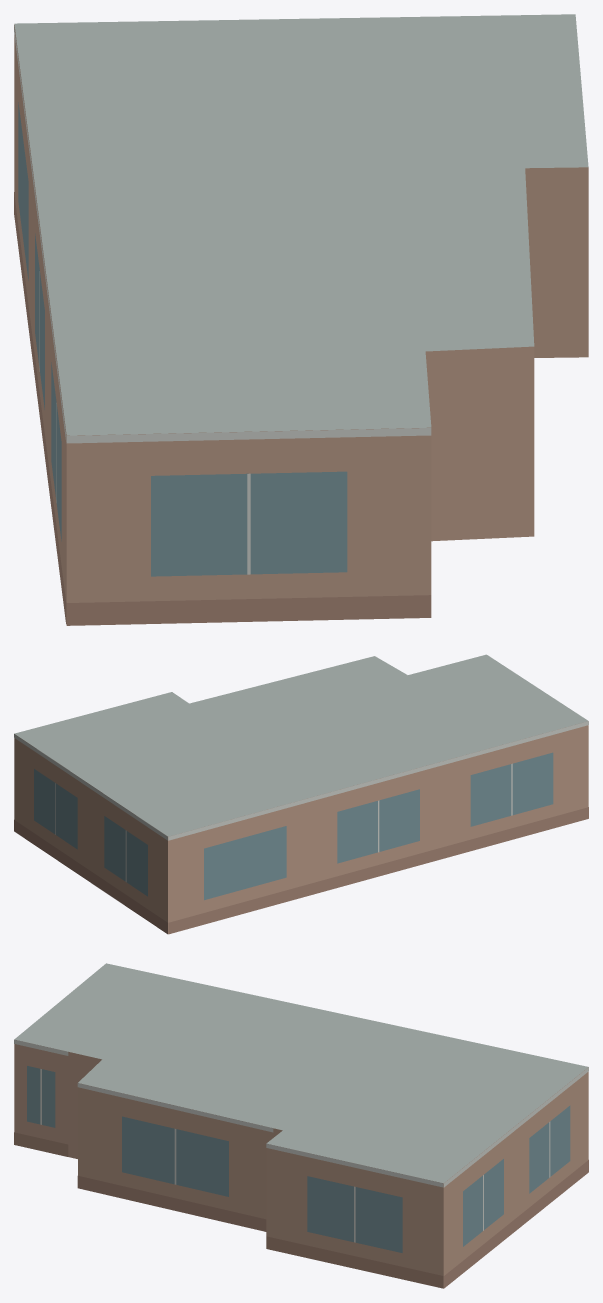
File: survey-upis-32723861.glb
3 views of the same model, one above another, from view 1: azimuth 30°, elevation 25°; view 2: azimuth 150°, elevation 25°; view 3: azimuth 270°, elevation 25° (orthographic). The views are drawn at different scales.
Visible parts, largest first — view 1: survey-upis-32723861.tmp; view 2: survey-upis-32723861.tmp; view 3: survey-upis-32723861.tmp.
Part boxes in pixels (<box>): survey-upis-32723861.tmp: <box>14,14,588,625</box>; survey-upis-32723861.tmp: <box>14,654,588,934</box>; survey-upis-32723861.tmp: <box>14,963,588,1288</box>.
Size of the model in its own units: 13.68 by 3.05 by 15.09.
